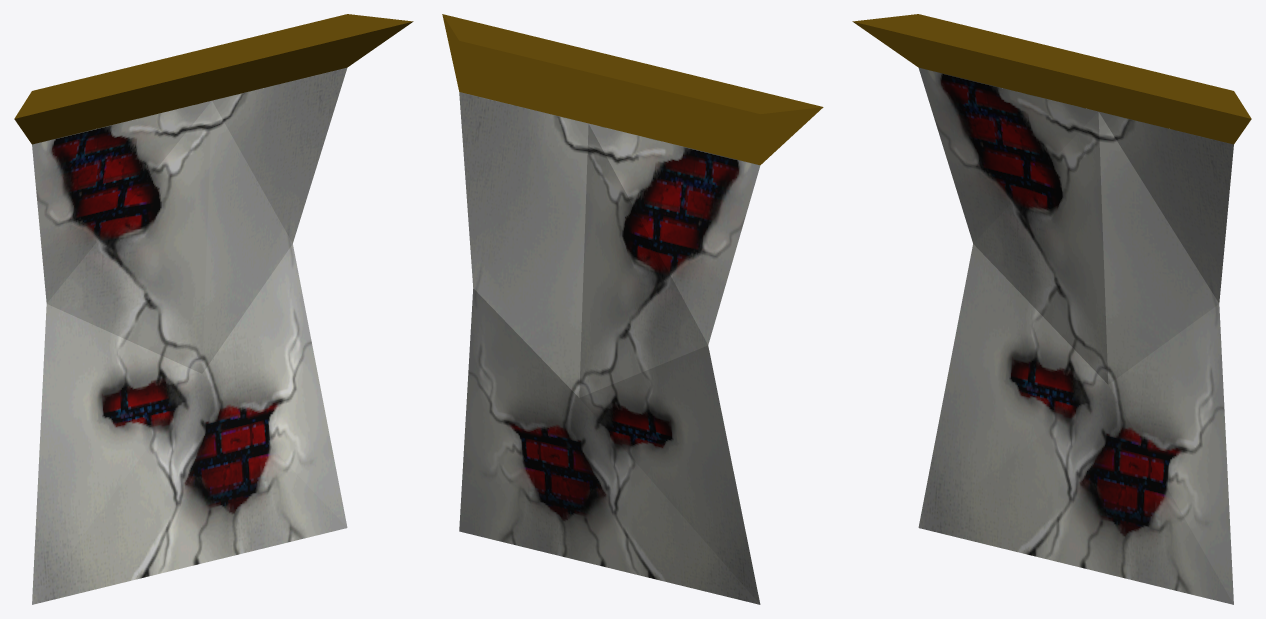
File: W_A1_x [Verwahrlost]_949.glb
The picture shows the model from 3 angles, left to right: view 1: azimuth 30°, elevation 25°; view 2: azimuth 150°, elevation 25°; view 3: azimuth 330°, elevation 25°; orthographic projection. The views are drawn at different scales.
Parts seen in each view (by area): view 1: polySurfaceShape1201, polySurfaceShape1203; view 2: polySurfaceShape1201, polySurfaceShape1203; view 3: polySurfaceShape1201, polySurfaceShape1203.
Boxes of the visible parts, x1,y1,x2,y2 form: polySurfaceShape1201: (32, 68, 347, 604); polySurfaceShape1203: (14, 14, 413, 144); polySurfaceShape1201: (459, 92, 760, 604); polySurfaceShape1203: (442, 14, 823, 165); polySurfaceShape1201: (918, 68, 1233, 604); polySurfaceShape1203: (852, 14, 1251, 144).
Size of the model in its own units: 0.3166 by 0.3891 by 0.0607.
2 materials, 2 textured.
